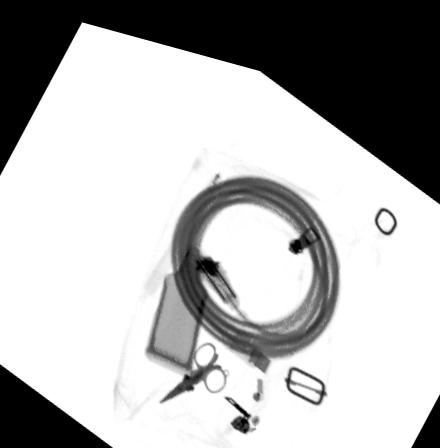Scissors: (158, 328, 226, 396)
